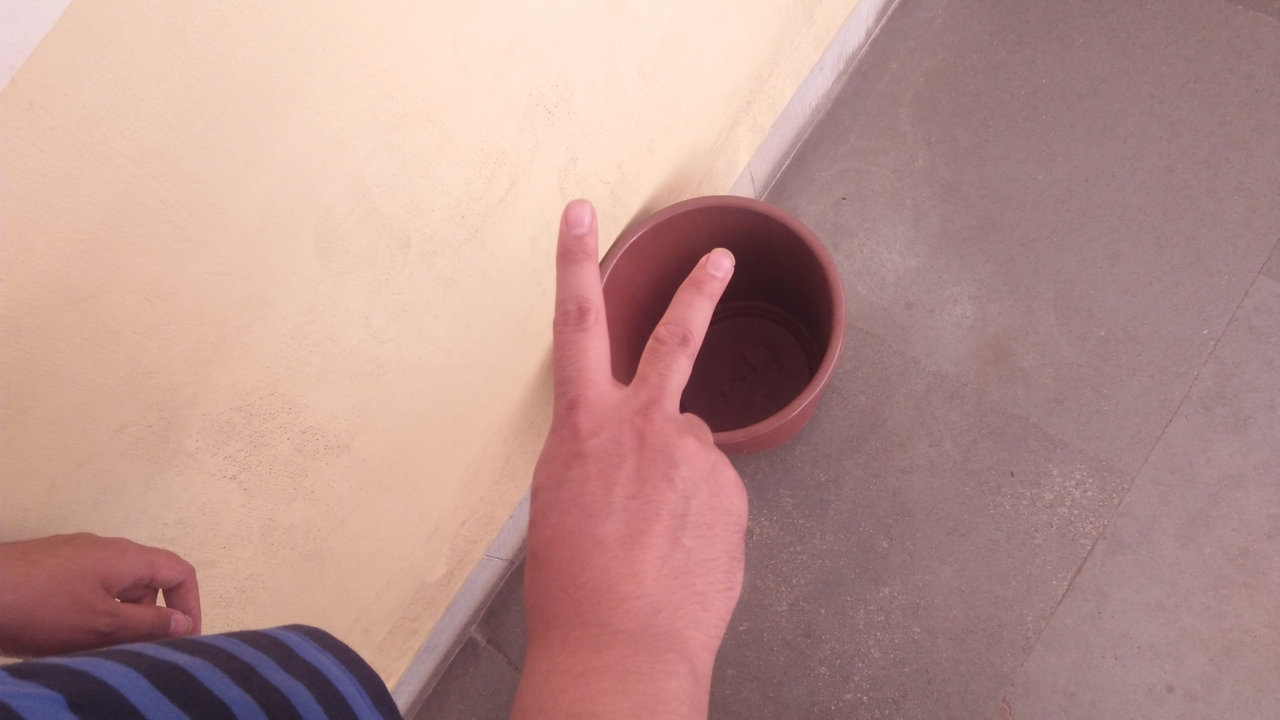fingertip: (680, 244, 734, 300), (552, 188, 606, 240)
